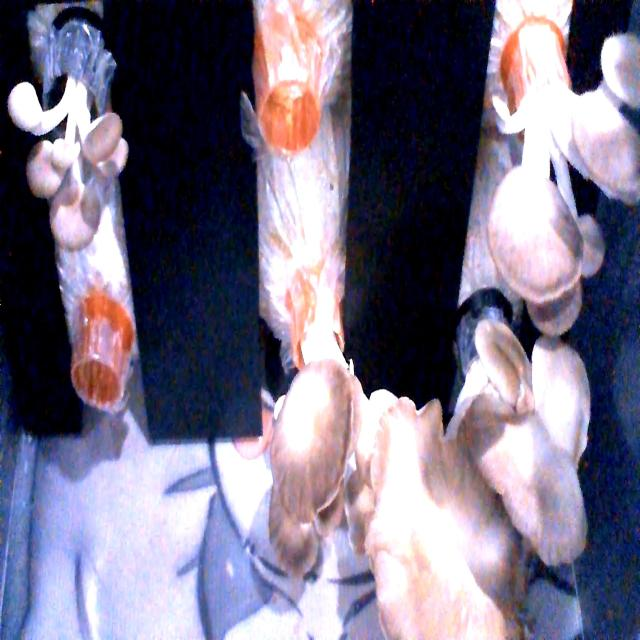big: (358, 351, 613, 640), (457, 9, 640, 340), (258, 325, 389, 577)
nfound: (258, 52, 334, 166), (50, 344, 150, 416)
small: (2, 74, 134, 254)
